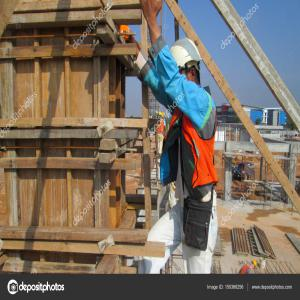white: (170, 38, 202, 89)
